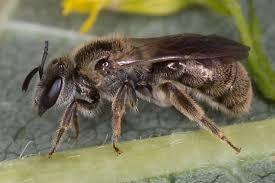Lasioglossum: (16, 28, 253, 150)
